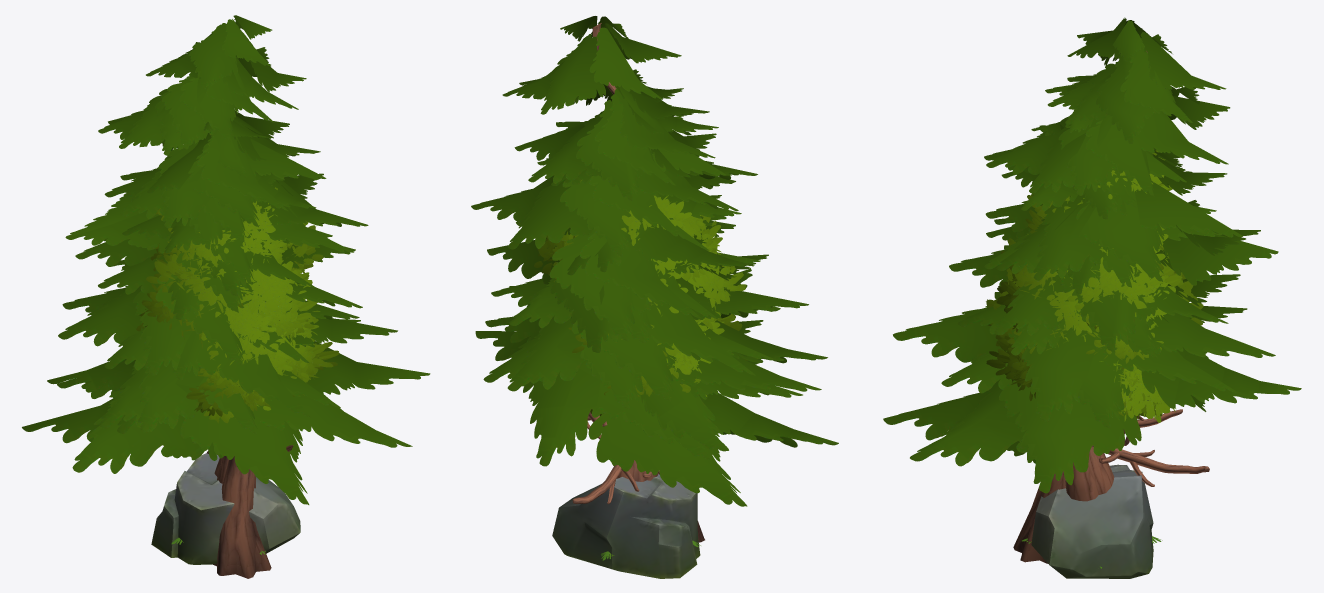
File: natural-vegetation.glb
The picture shows the model from 3 angles, left to right: view 1: azimuth 30°, elevation 25°; view 2: azimuth 150°, elevation 25°; view 3: azimuth 270°, elevation 25°; orthographic projection. The views are drawn at different scales.
Visible parts, largest first — view 1: pine-b-Pine_5, pine-a-Pine_1, tree-d-CommonTree_1, rock-a-Rock_Medium_2, tree-a-CommonTree_3; view 2: pine-b-Pine_5, pine-a-Pine_1, rock-a-Rock_Medium_2, tree-d-CommonTree_1, tree-a-CommonTree_3, tree-c-CommonTree_2; view 3: pine-b-Pine_5, pine-a-Pine_1, rock-a-Rock_Medium_2, tree-d-CommonTree_1, tree-c-CommonTree_2, tree-a-CommonTree_3.
Boxes of the visible parts, box(x1,y1,x2,y2) form: pine-b-Pine_5: box(22, 15, 430, 578); pine-a-Pine_1: box(57, 118, 360, 453); tree-d-CommonTree_1: box(136, 221, 339, 488); rock-a-Rock_Medium_2: box(151, 453, 300, 564); tree-a-CommonTree_3: box(150, 187, 314, 483); pine-b-Pine_5: box(471, 16, 838, 542); pine-a-Pine_1: box(483, 105, 802, 504); rock-a-Rock_Medium_2: box(552, 474, 700, 578); tree-d-CommonTree_1: box(534, 216, 747, 480); tree-a-CommonTree_3: box(567, 180, 720, 478); tree-c-CommonTree_2: box(552, 267, 711, 481); pine-b-Pine_5: box(883, 17, 1301, 563); pine-a-Pine_1: box(941, 107, 1247, 486); rock-a-Rock_Medium_2: box(1031, 464, 1153, 578); tree-d-CommonTree_1: box(986, 227, 1203, 501); tree-c-CommonTree_2: box(1058, 272, 1175, 494); tree-a-CommonTree_3: box(1000, 150, 1178, 419).
Size of the model in its own units: 9.57 by 13 by 9.27.
7 materials, 7 textured.
